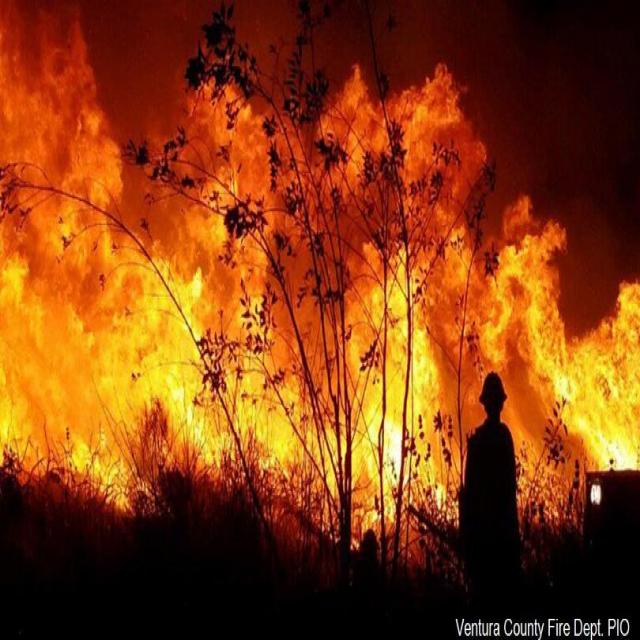Fire: (145, 77, 470, 519), (0, 96, 247, 511), (482, 239, 640, 474), (386, 76, 493, 259), (455, 280, 503, 418)
